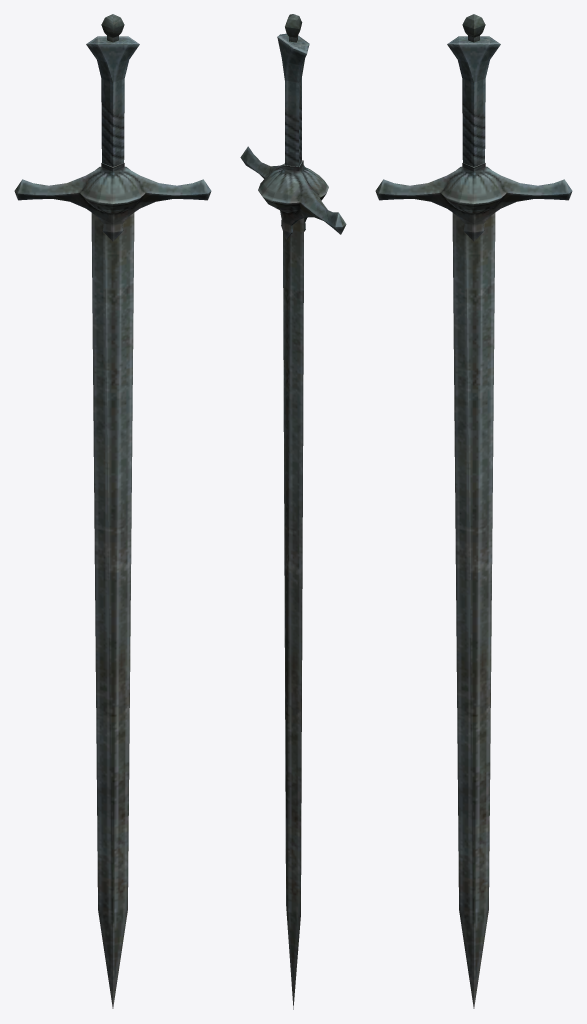
The model's file is bg_lut_lucastle_herostatue11a_sm_artree.FBX.
The picture shows the model from 3 angles, left to right: view 1: azimuth 90°, elevation 25°; view 2: azimuth 210°, elevation 25°; view 3: azimuth 270°, elevation 25°; orthographic projection.
Parts seen in each view (by area): view 1: bg_lut_lucastle_herostatue11a_sm_artree; view 2: bg_lut_lucastle_herostatue11a_sm_artree; view 3: bg_lut_lucastle_herostatue11a_sm_artree.
Part boxes in pixels (x1=…): bg_lut_lucastle_herostatue11a_sm_artree: x1=14, y1=14, x2=211, y2=1008; bg_lut_lucastle_herostatue11a_sm_artree: x1=240, y1=14, x2=346, y2=1009; bg_lut_lucastle_herostatue11a_sm_artree: x1=375, y1=14, x2=572, y2=1008.
Size of the model in its own units: 17.94 by 272 by 48.86.
